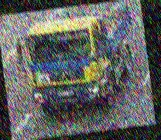truck: (14, 8, 141, 119)
